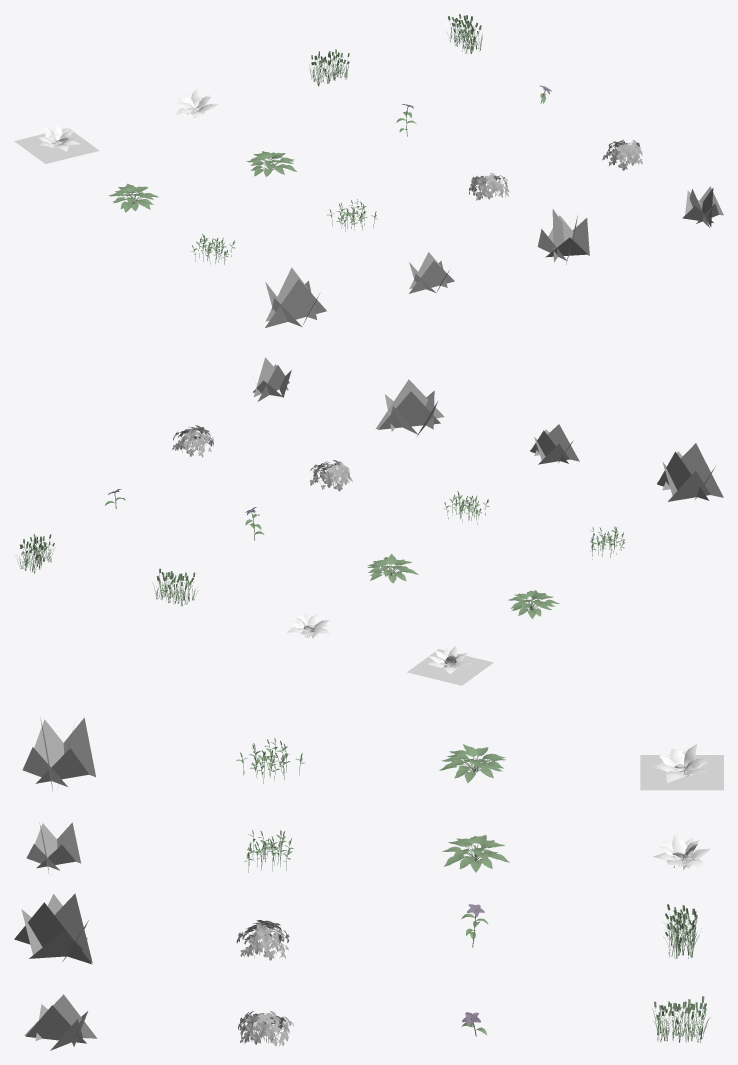
File: grassland_plants.fbx
3 views of the same model, one above another, from view 1: azimuth 30°, elevation 25°; view 2: azimuth 150°, elevation 25°; view 3: azimuth 270°, elevation 25° (orthographic). The views are drawn at different scales.
Visible parts, largest first — view 1: grass_002_brown, Grass1, Plane, grass_002_dark, grass_002_dark.001, Reeds, Bush1, Reeds.001, Bush1.001, Bush2.001, Bush2, Fern.001 (+1 smaller); view 2: grass_002_brown, Grass1, Plane, grass_002_dark, grass_002_dark.001, Reeds, Bush1.001, Bush1, Reeds.001, Bush2.001, Bush2, Fern.001 (+1 smaller); view 3: Grass1, grass_002_brown, Plane, grass_002_dark.001, grass_002_dark, Reeds.001, Bush1, Bush1.001, Bush2, Bush2.001, Reeds, Fern (+3 smaller).
Part boxes in pixels (x1,y1,x2,y2): grass_002_brown: (265,267,326,327); Grass1: (537,209,589,264); Plane: (14,128,99,163); grass_002_dark: (409,252,454,293); grass_002_dark.001: (682,186,723,227); Reeds: (308,49,349,86); Bush1: (602,139,642,170); Reeds.001: (446,14,482,53); Bush1.001: (469,173,509,200); Bush2.001: (109,183,158,212); Bush2: (246,151,296,176); Fern.001: (175,88,217,120); grass_002_brown: (657,443,723,501); Grass1: (375,379,444,435); Plane: (407,649,493,685); grass_002_dark: (530,424,579,464); grass_002_dark.001: (249,357,291,401); Reeds: (152,568,198,606); Bush1.001: (310,460,352,491); Bush1: (172,425,213,457); Reeds.001: (14,534,55,573); Bush2.001: (508,590,559,618); Bush2: (367,553,418,583); Fern.001: (287,613,330,638); Grass1: (14,893,92,964); grass_002_brown: (22,716,95,791); Plane: (640,755,723,790); grass_002_dark.001: (24,994,97,1050); grass_002_dark: (26,822,81,873); Reeds.001: (652,996,710,1042); Bush1: (238,1011,293,1046); Bush1.001: (236,920,289,960); Bush2: (442,835,509,872); Bush2.001: (439,744,505,783); Reeds: (663,904,701,958); Fern: (652,744,709,782).
Size of the model in its own units: 1690 by 166 by 1700.
